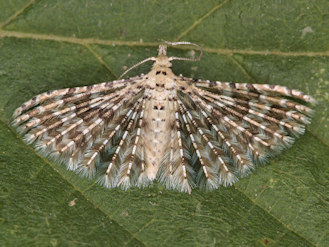Alucitidae: (10, 41, 323, 196)
moth: (8, 39, 321, 194)
